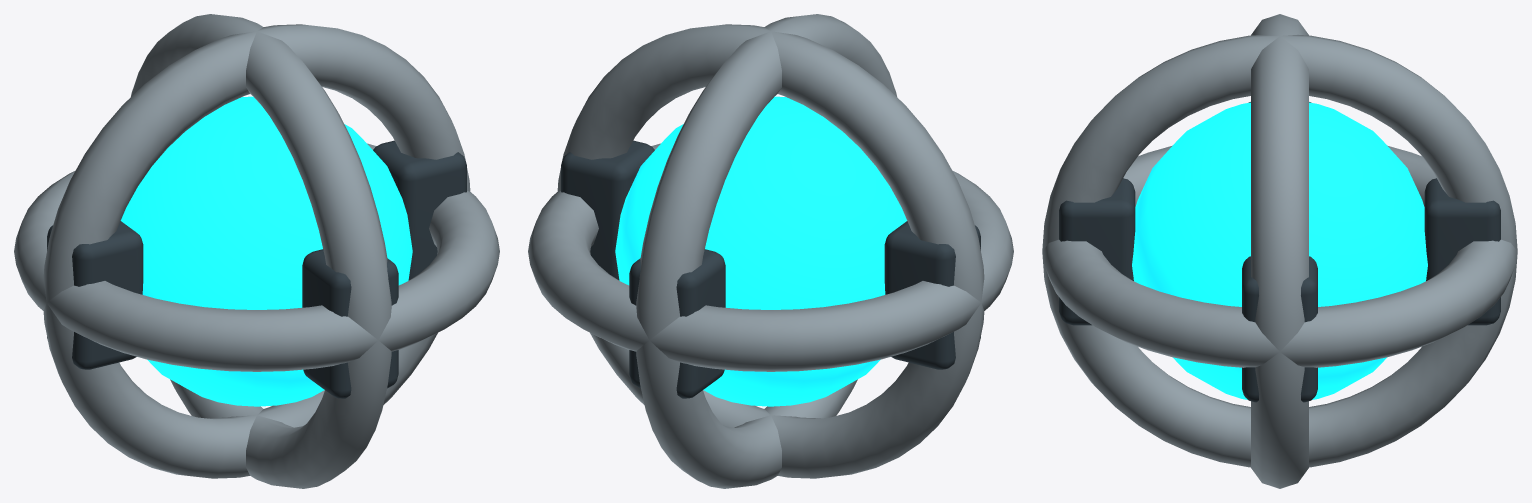
File: core.glb
The picture shows the model from 3 angles, left to right: view 1: azimuth 30°, elevation 25°; view 2: azimuth 150°, elevation 25°; view 3: azimuth 270°, elevation 25°; orthographic projection. The views are drawn at different scales.
Parts seen in each view (by area): view 1: Core hardware cage 0, Core luminous center, Core hardware cage 1, Core hardware cage 2, Core grip lug 0, Core grip lug 2, Core grip lug 3; view 2: Core hardware cage 0, Core luminous center, Core hardware cage 1, Core hardware cage 2, Core grip lug 0, Core grip lug 2, Core grip lug 1; view 3: Core hardware cage 1, Core luminous center, Core hardware cage 2, Core hardware cage 0, Core grip lug 1, Core grip lug 3, Core grip lug 0.
Part boxes in pixels (left/top/right/bottom): Core hardware cage 0: left=43, top=24, right=470, bottom=478; Core luminous center: left=120, top=96, right=412, bottom=406; Core hardware cage 1: left=131, top=14, right=391, bottom=488; Core hardware cage 2: left=14, top=143, right=499, bottom=371; Core grip lug 0: left=373, top=140, right=466, bottom=280; Core grip lug 2: left=47, top=221, right=143, bottom=369; Core grip lug 3: left=302, top=249, right=398, bottom=398; Core hardware cage 0: left=557, top=24, right=984, bottom=478; Core luminous center: left=615, top=96, right=907, bottom=406; Core hardware cage 1: left=636, top=14, right=896, bottom=488; Core hardware cage 2: left=528, top=143, right=1013, bottom=371; Core grip lug 0: left=561, top=140, right=654, bottom=280; Core grip lug 2: left=884, top=221, right=980, bottom=369; Core grip lug 1: left=629, top=249, right=725, bottom=398; Core hardware cage 1: left=1042, top=35, right=1517, bottom=467; Core luminous center: left=1132, top=102, right=1427, bottom=399; Core hardware cage 2: left=1042, top=145, right=1517, bottom=367; Core hardware cage 0: left=1251, top=14, right=1308, bottom=488; Core grip lug 1: left=1424, top=178, right=1500, bottom=325; Core grip lug 3: left=1059, top=178, right=1135, bottom=325; Core grip lug 0: left=1242, top=256, right=1317, bottom=402.
Size of the model in its own units: 0.312 by 0.312 by 0.312.
